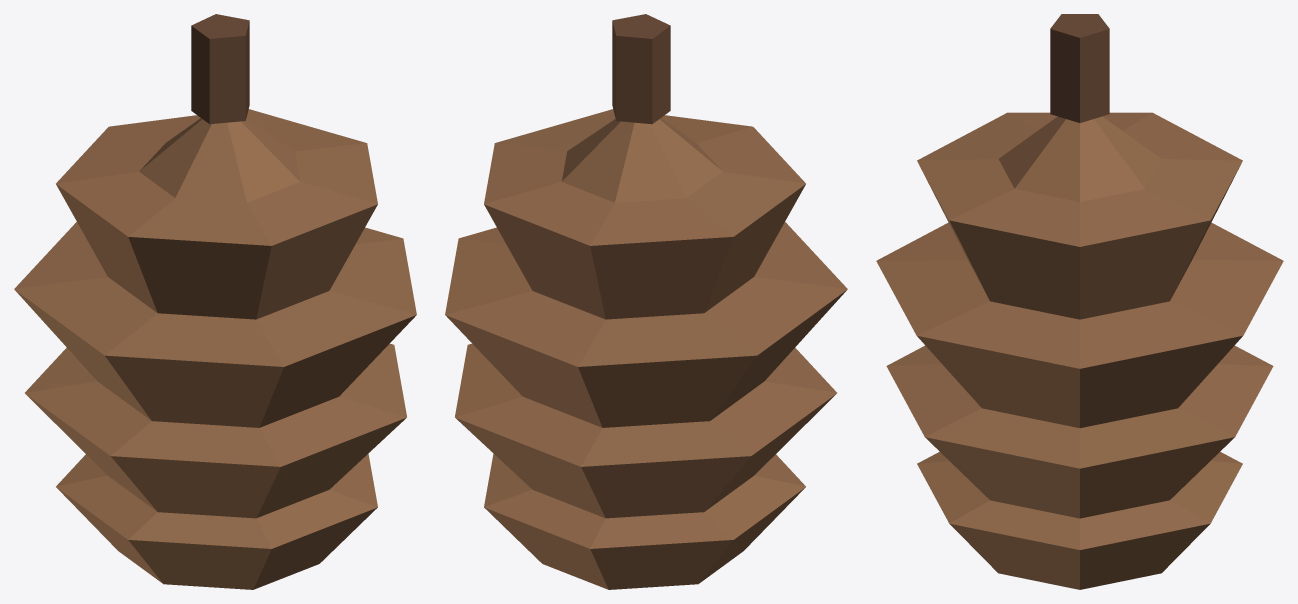
The model's file is deco_pine_cone.obj.
3 views of the same model, side by side, from view 1: azimuth 30°, elevation 25°; view 2: azimuth 150°, elevation 25°; view 3: azimuth 270°, elevation 25° (orthographic).
Visible parts, largest first — view 1: deco_pine_cone; view 2: deco_pine_cone; view 3: deco_pine_cone.
Boxes of the visible parts, x1,y1,x2,y2 form: deco_pine_cone: [14, 14, 416, 589]; deco_pine_cone: [445, 14, 847, 589]; deco_pine_cone: [876, 14, 1283, 589].
Size of the model in its own units: 0.038 by 0.058 by 0.039.
Materials: 1 (1 with a texture image).
